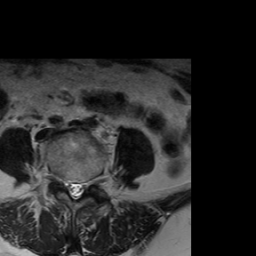CCS_stenosis: (72, 173, 79, 206)
LFS_stenosis: (86, 171, 94, 192)
LLS_normal: (79, 174, 86, 200)
RFS_normal: (56, 168, 64, 193)
RLS_normal: (64, 174, 72, 202)
